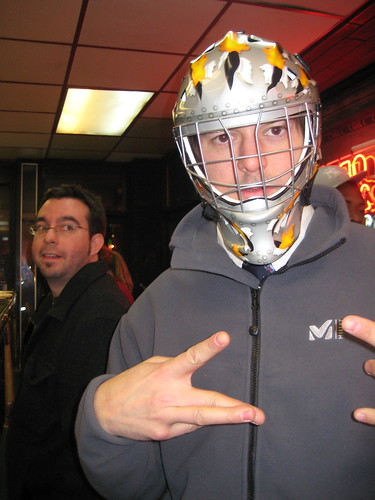helmet: (152, 21, 317, 116)
